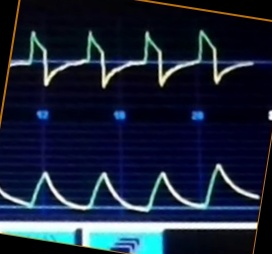Normal Flow: (11, 25, 254, 90)
Normal Volume: (1, 148, 257, 218)
